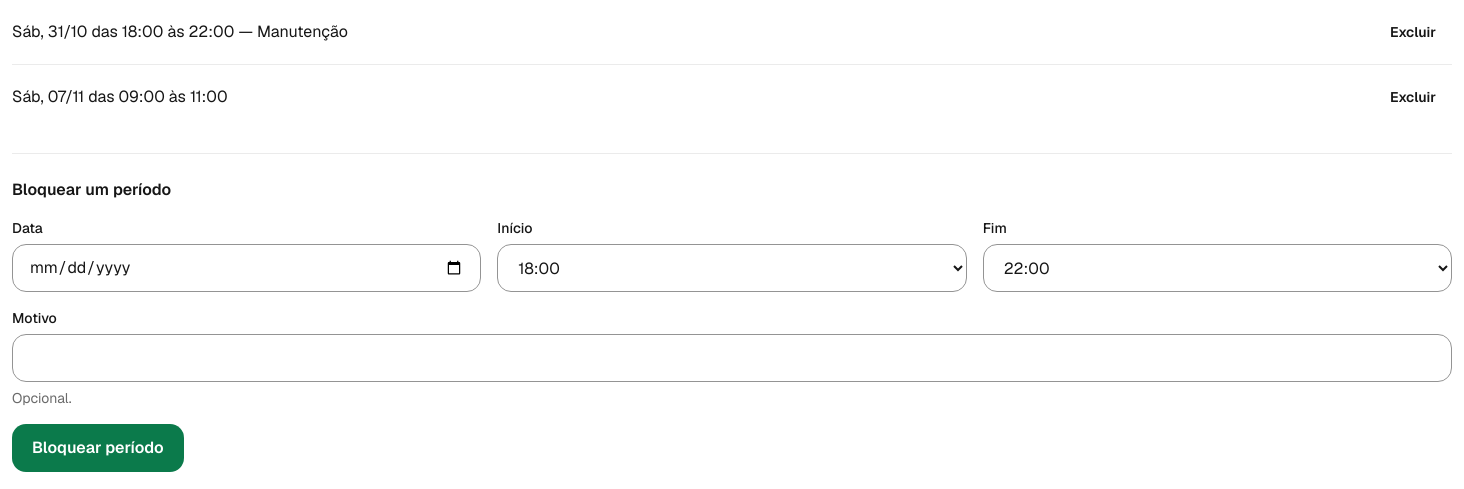
Test: BlocksEditor › asks before deleting and then removes the block
Step 1. Click the button with aria-label "Excluir bloqueio 1" → click(1413, 32), box x1=1374 y1=12 x2=1452 y2=52
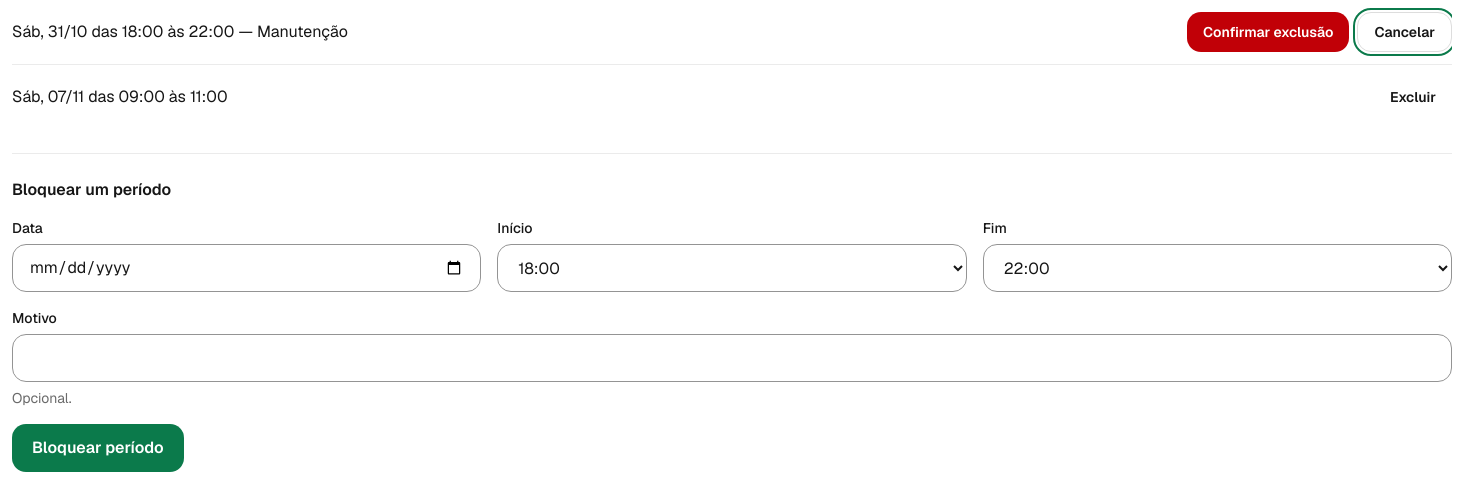
Step 2. Click the button "Confirmar exclusão" → click(1268, 32), box x1=1187 y1=12 x2=1350 y2=52
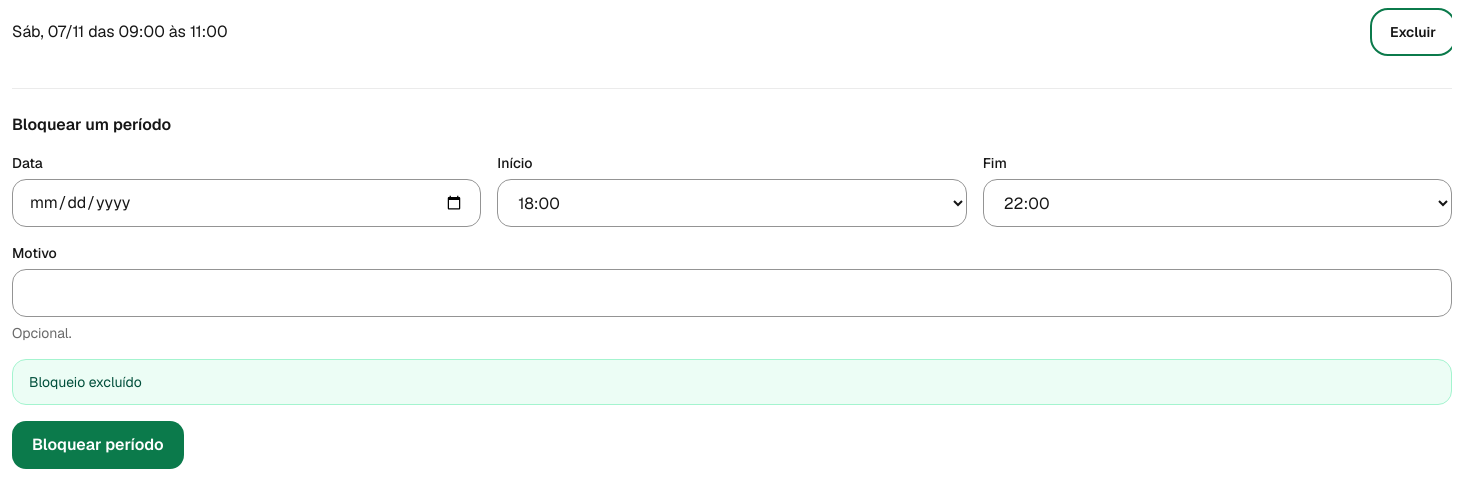
Expected: the text "Sáb, 07/11 das 09:00 às 11:00" is shown, x1=12 y1=20 x2=228 y2=44
Result: the text "Sáb, 31/10 das 18:00 às 22:00 — Manutenção" is gone
